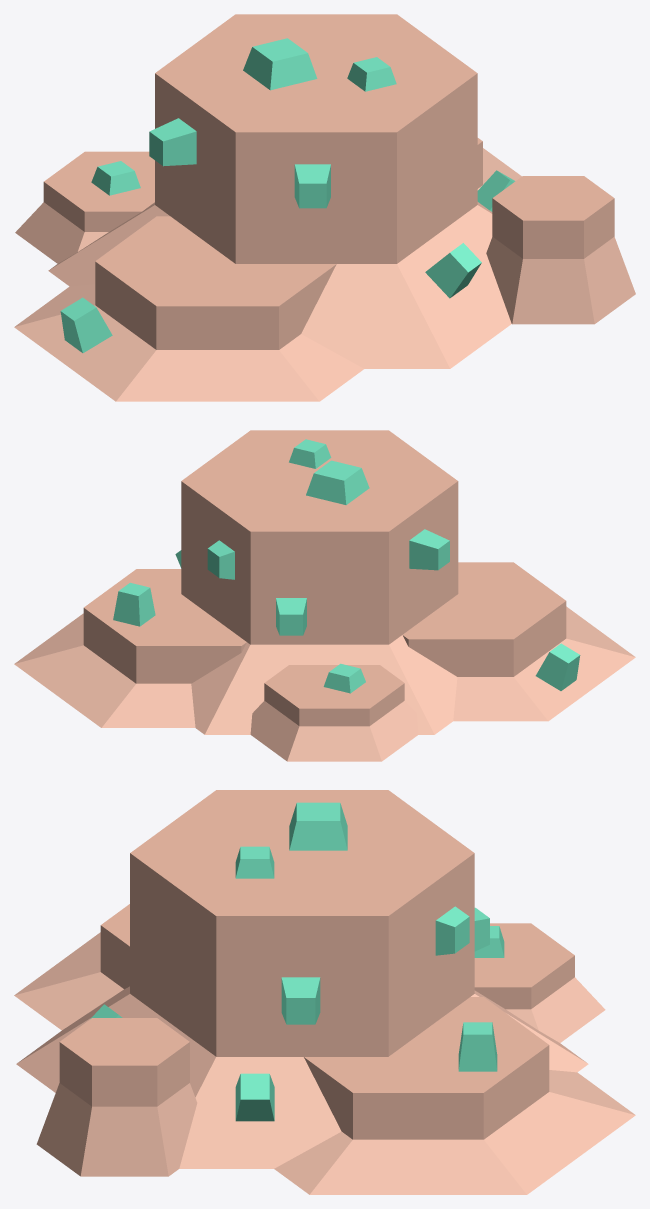
File: rockcrystals-col.glb
3 renders of one model, top to bottom at view 1: azimuth 30°, elevation 25°; view 2: azimuth 150°, elevation 25°; view 3: azimuth 270°, elevation 25°, orthographic. The views are drawn at different scales.
Parts seen in each view (by area): view 1: rockcrystals-col; view 2: rockcrystals-col; view 3: rockcrystals-col.
Boxes of the visible parts, left/top/right/bottom form: rockcrystals-col: left=14, top=14, right=635, bottom=401; rockcrystals-col: left=14, top=430, right=635, bottom=761; rockcrystals-col: left=14, top=790, right=635, bottom=1194.
Bounding box in the file's own units: 0.8509 × 0.3375 × 0.8015.
